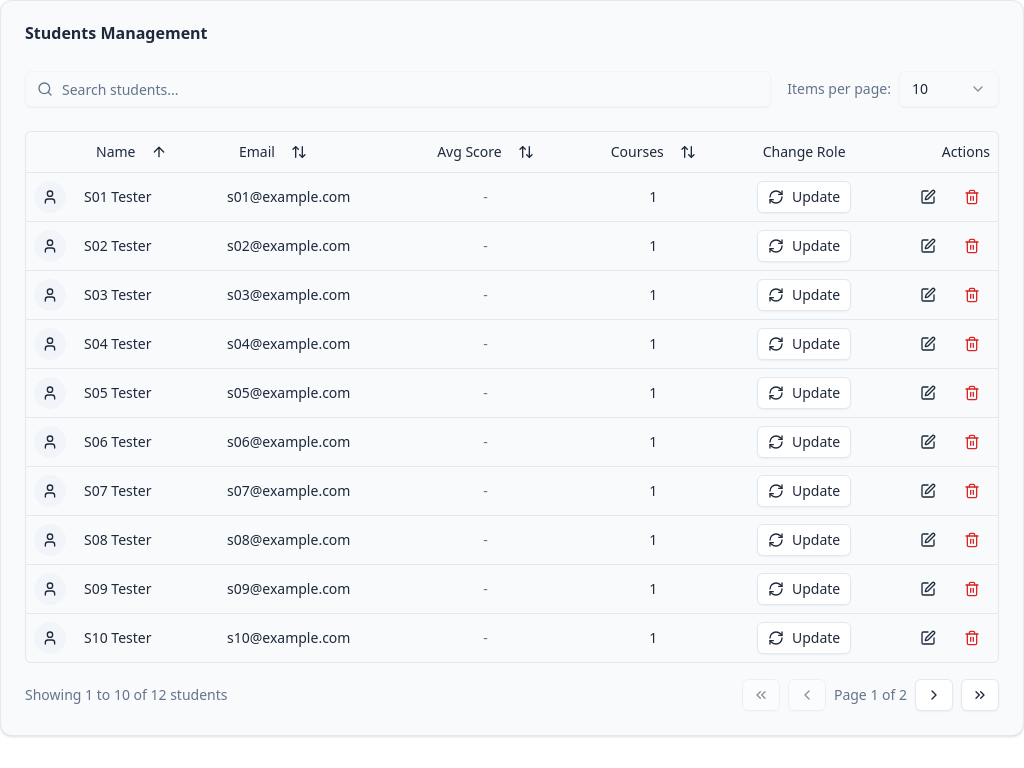
Scenario: AdminStudentsTable › pages ten students at a time
The image size is (1024, 768).
Expected: the text "Showing 1 to 10 of 12 students" is shown, x1=25 y1=684 x2=228 y2=704
Click the button named "Next page" at (934, 694), box x1=915 y1=678 x2=953 y2=710
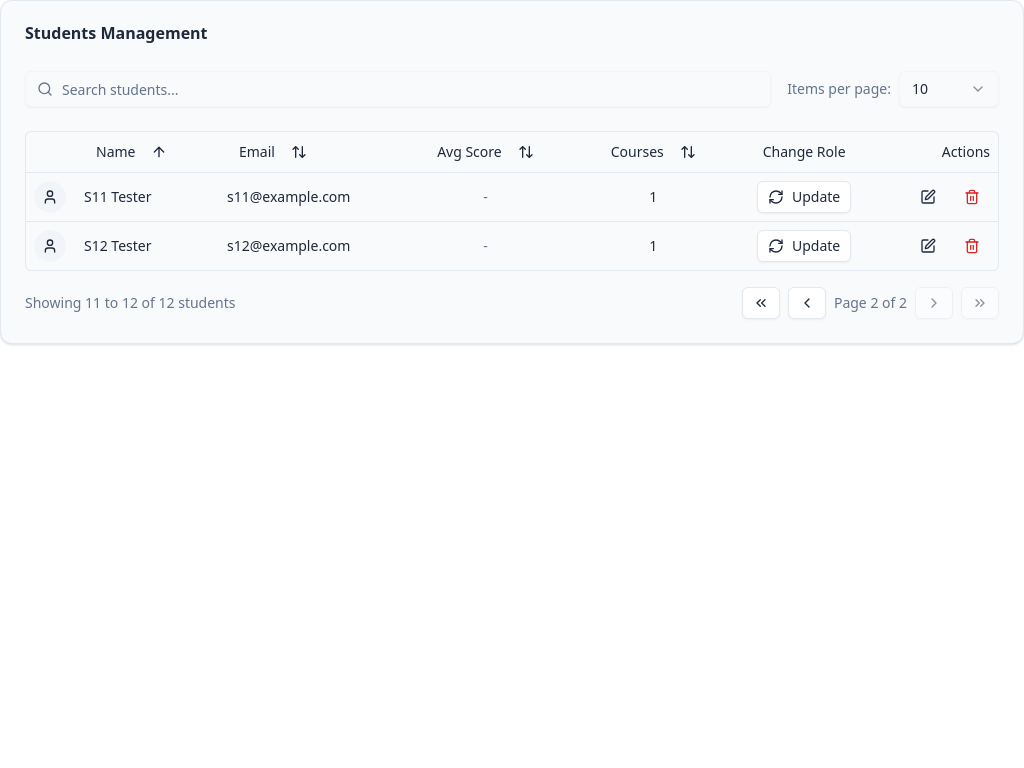
Now the text "Showing 11 to 12 of 12 students" is shown, box x1=25 y1=292 x2=236 y2=312
Now the button named "Next page" is disabled, box x1=915 y1=286 x2=953 y2=318
